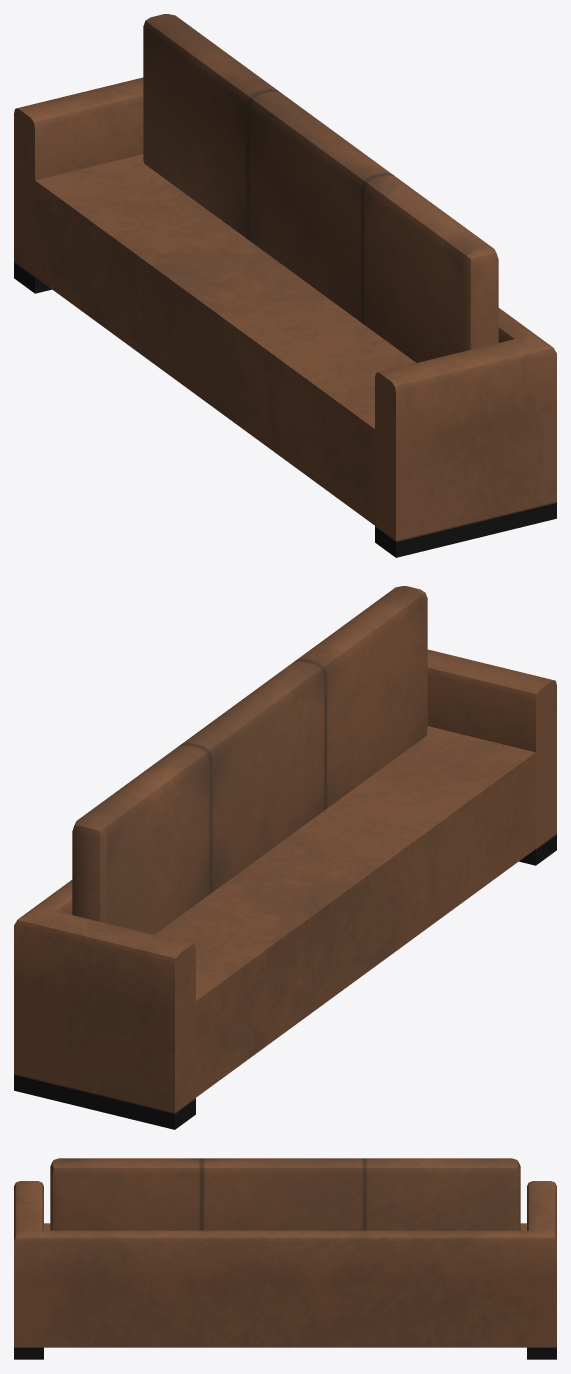
3 views of the same model, one above another, from view 1: azimuth 30°, elevation 25°; view 2: azimuth 150°, elevation 25°; view 3: azimuth 270°, elevation 25° (orthographic). The views are drawn at different scales.
Parts seen in each view (by area): view 1: Sofa1; view 2: Sofa1; view 3: Sofa1.
Part boxes in pixels (x1,y1,x2,y2): Sofa1: [14, 14, 556, 557]; Sofa1: [14, 586, 556, 1129]; Sofa1: [14, 1158, 556, 1359].
Size of the model in its own units: 3.88 by 5.92 by 15.94.
1 material, 1 textured.
